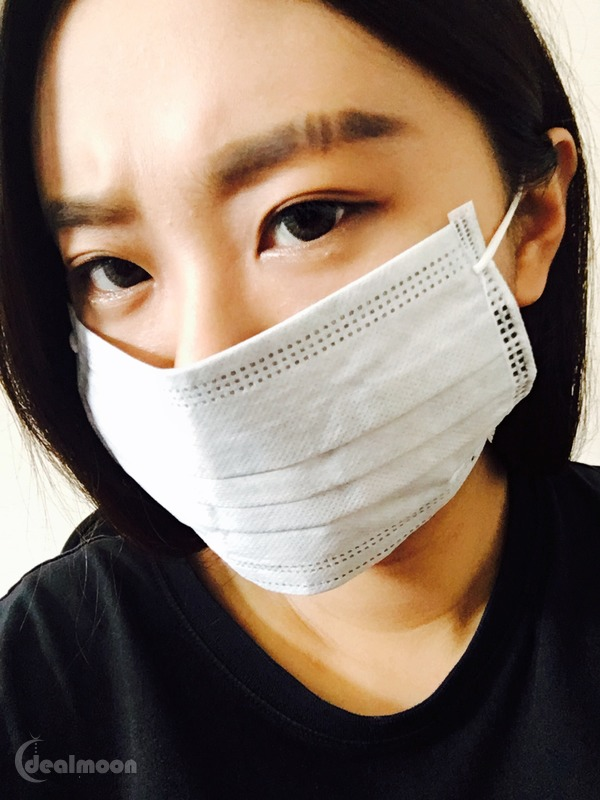face_mask: (51, 1, 519, 579)
